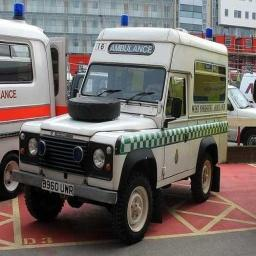Ambulance: (13, 27, 227, 243), (0, 3, 66, 198)
